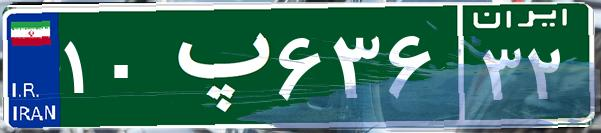0: (110, 28, 158, 105)
1: (57, 26, 110, 107)
2: (525, 38, 570, 115)
3: (330, 28, 385, 110), (475, 38, 525, 113)
6: (385, 28, 445, 110), (273, 28, 330, 110)
پ: (158, 15, 273, 115)
